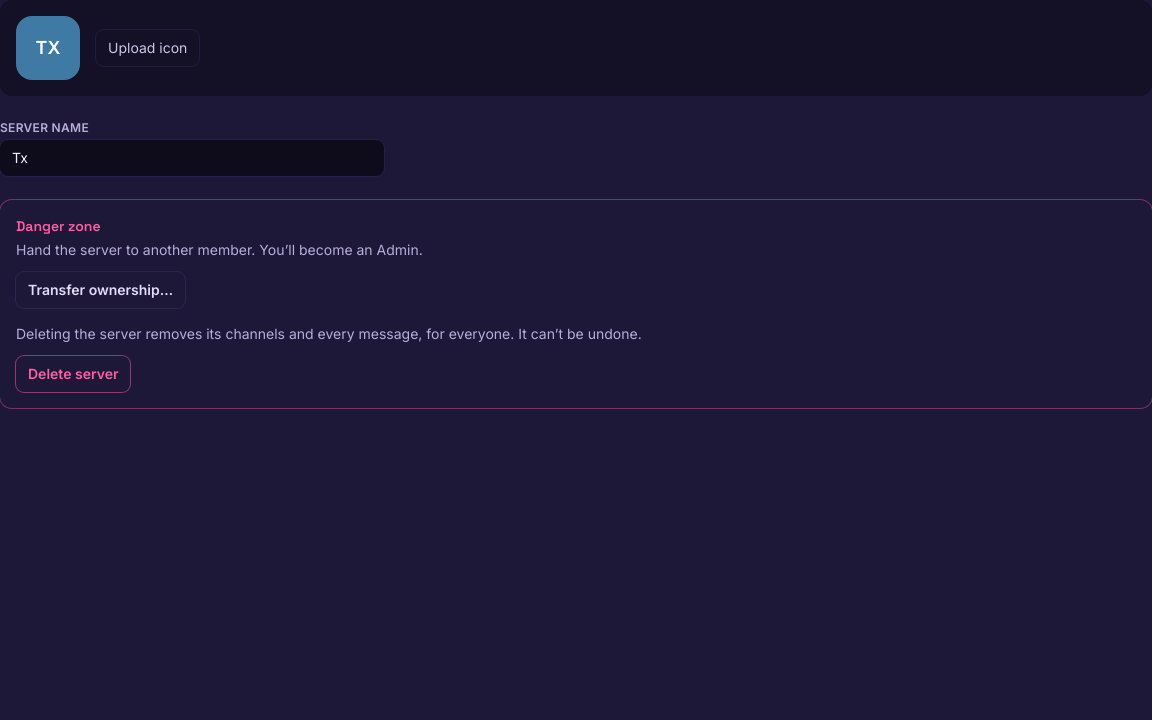
Test: the picker lists other members (not me, not the bot) and searches
This screenshot has width=1152, height=720.
Click the button "Transfer ownership…" at {"x": 101, "y": 290}, box x1=16 y1=272 x2=185 y2=308
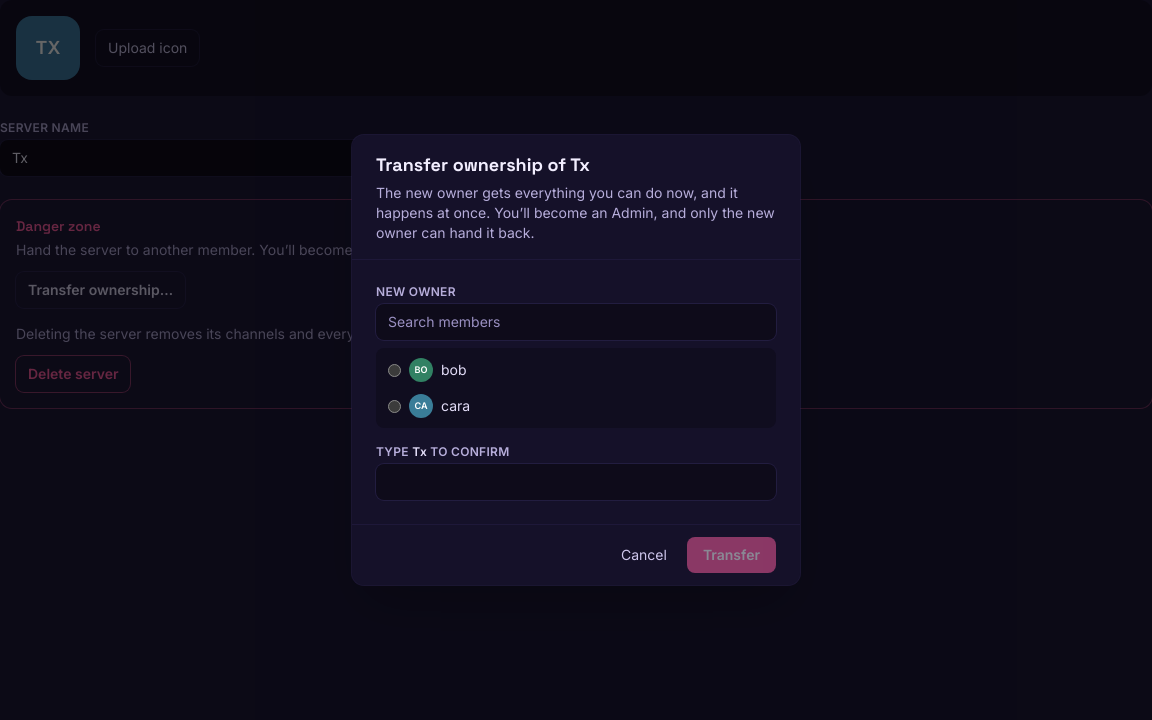
Type "CA" into the field with placeholder "Search members" at {"x": 576, "y": 322}, box x1=376 y1=304 x2=776 y2=340
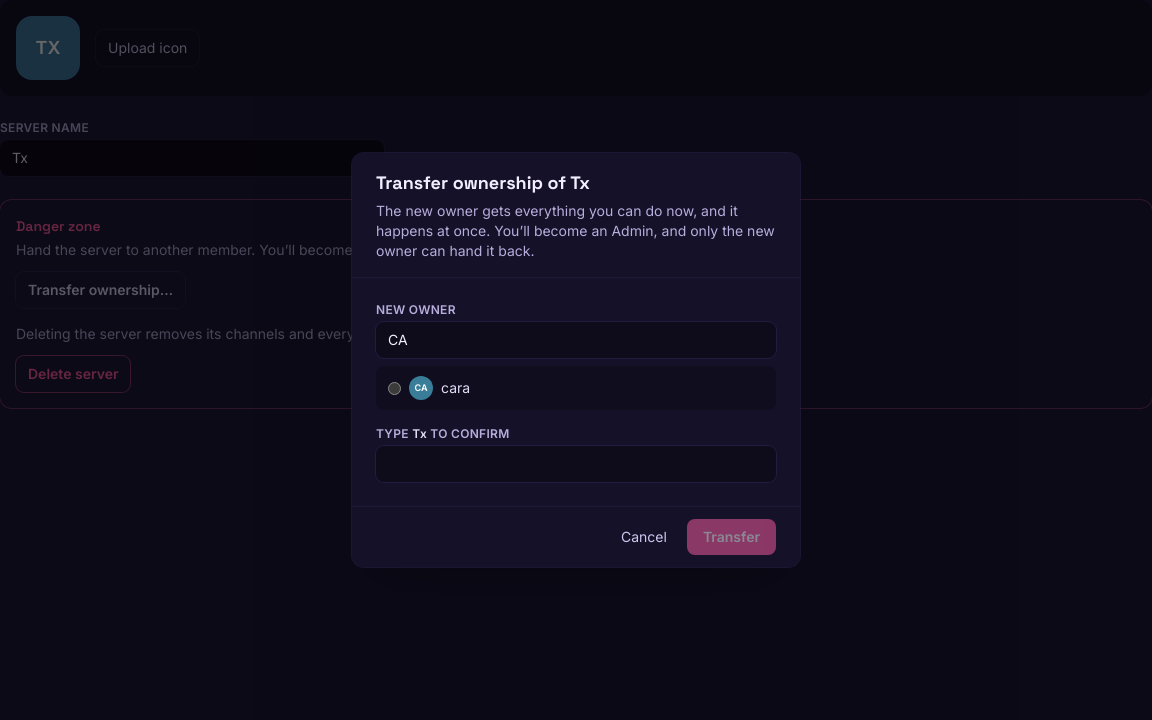
Replace the text in the field with placeholder "Search members" with "zz" at {"x": 576, "y": 340}, box x1=376 y1=322 x2=776 y2=358
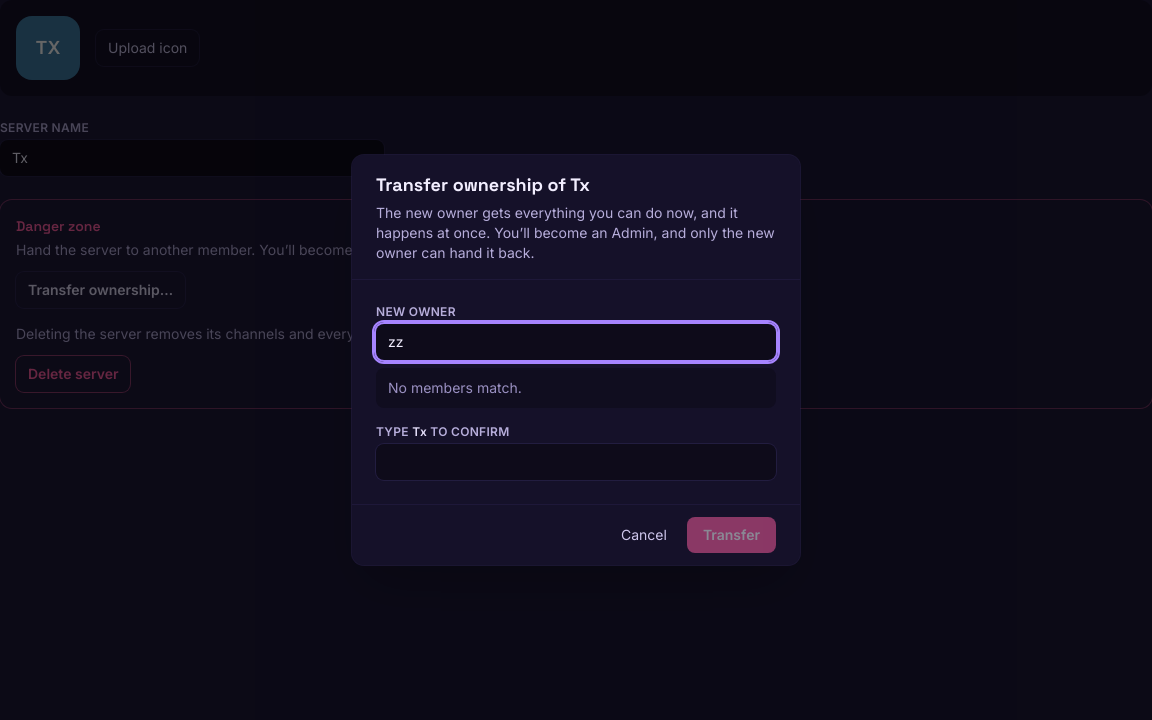
Check: the text "No members match." is shown, box x1=388 y1=379 x2=522 y2=396
